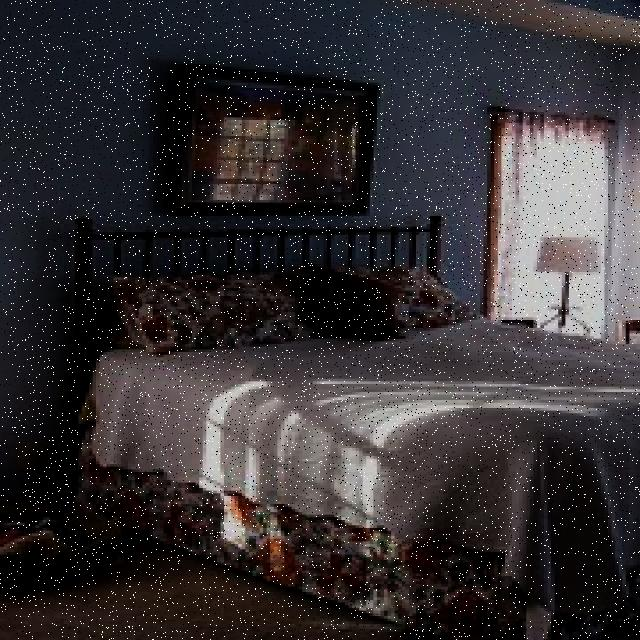bed: (71, 213, 640, 638)
